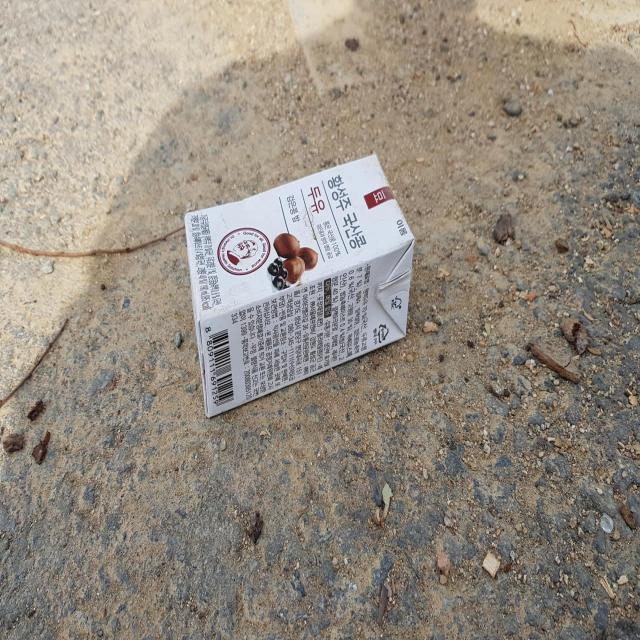paperpack: (184, 153, 415, 416)
